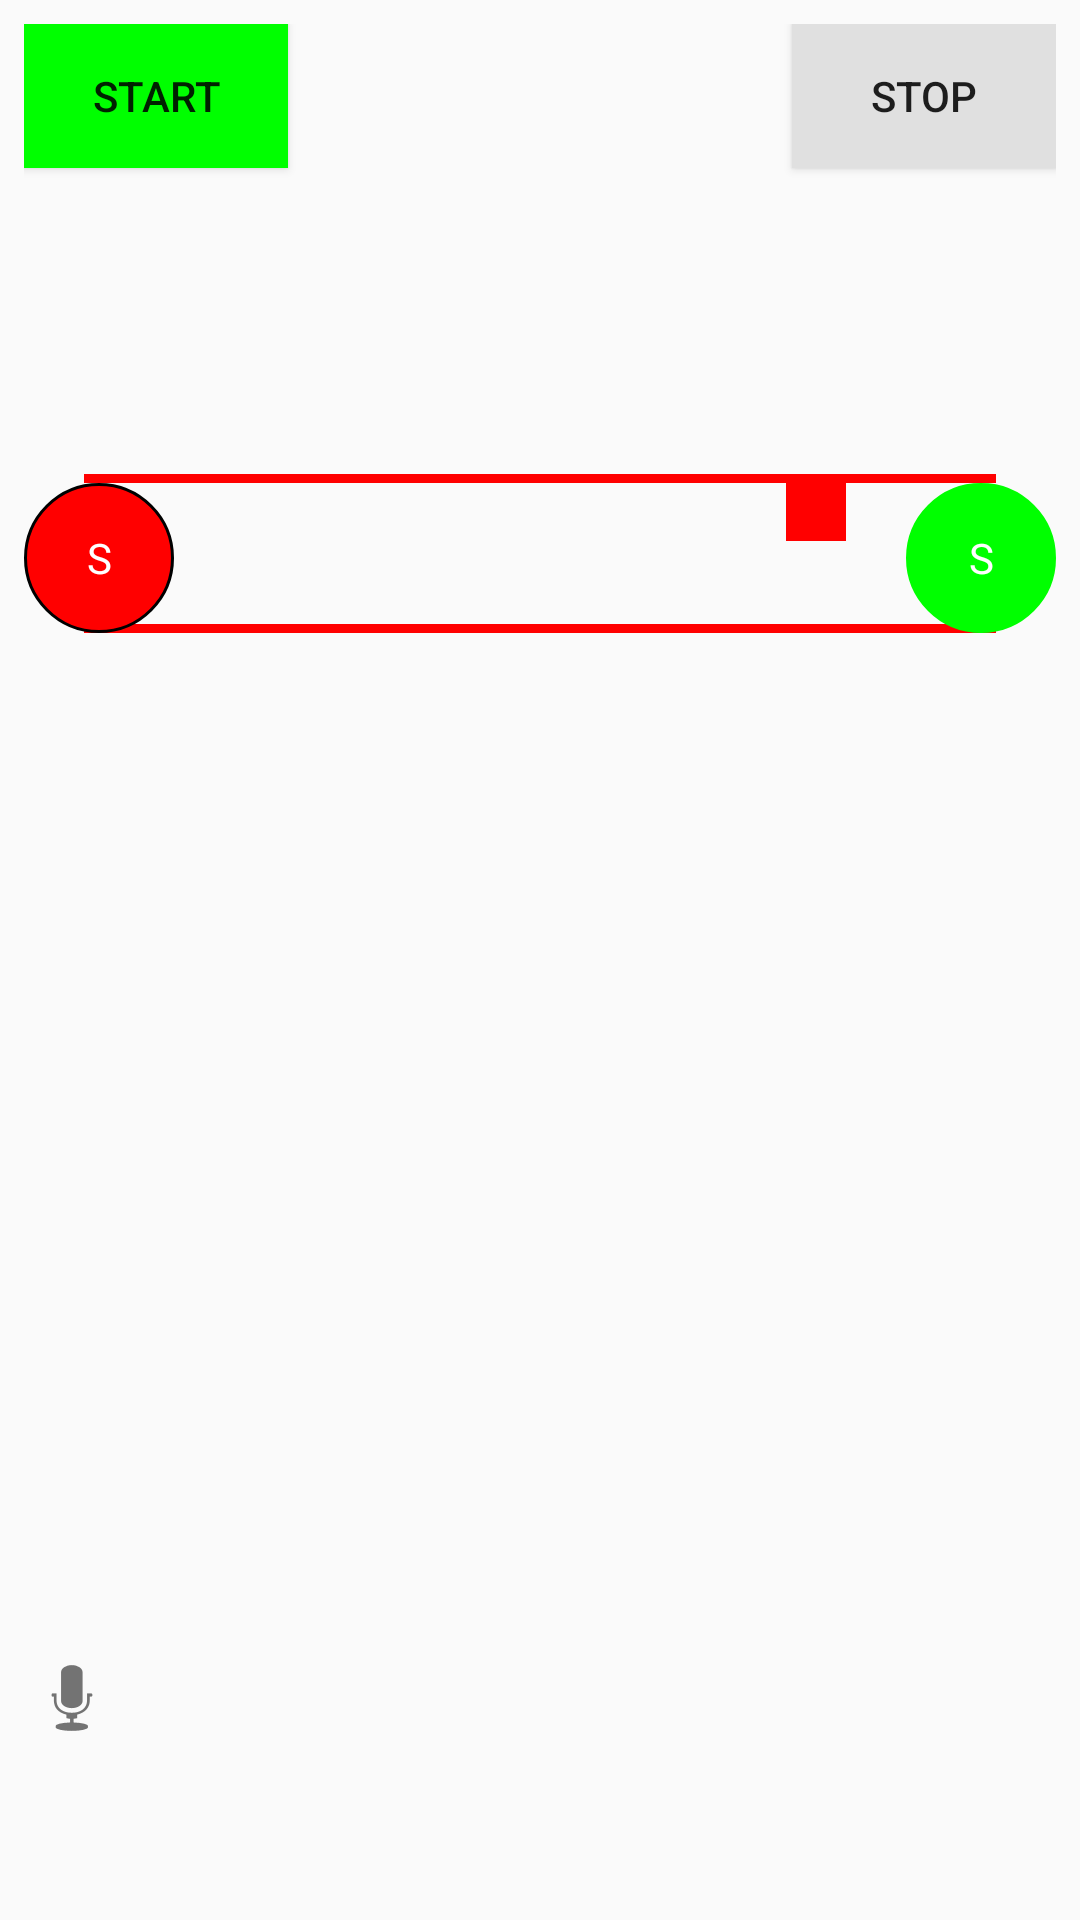

Screen size 1080w x 1920h. Icon name, then its box in pixels as (x1, y1, x2, y2):
speak now: (51, 1665, 93, 1731)
